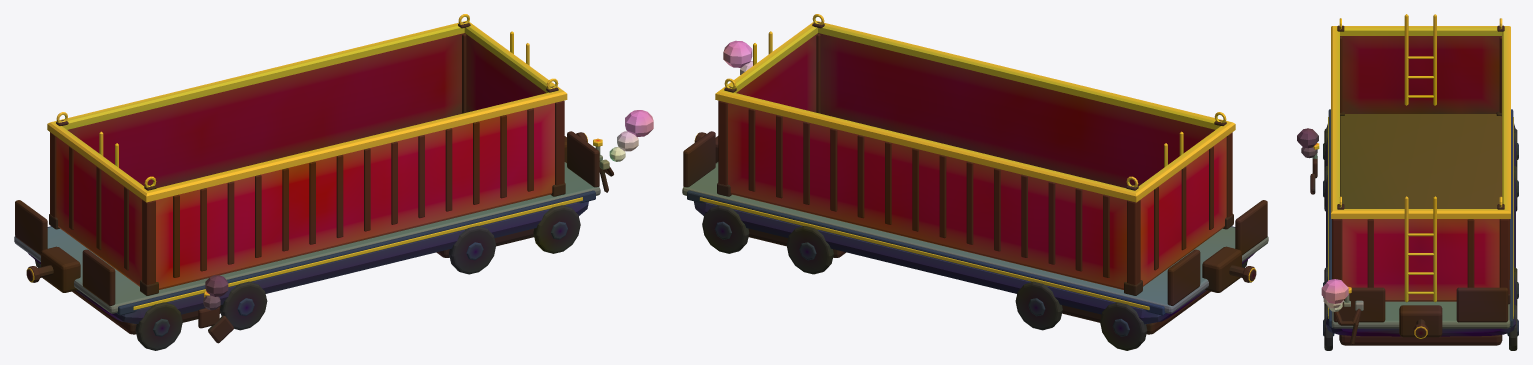
Rendered from ContainerWagon_Blockout.glb.
The picture shows the model from 3 angles, left to right: view 1: azimuth 30°, elevation 25°; view 2: azimuth 150°, elevation 25°; view 3: azimuth 270°, elevation 25°; orthographic projection. The views are drawn at different scales.
Parts seen in each view (by area): view 1: Container, Deck, Underframe, Broken_Bits__BrakeHose, Broken_Bits__AxleBox; view 2: Container, Deck, Underframe, Broken_Bits__BrakeHose; view 3: Container, Deck, Underframe, Broken_Bits__BrakeHose, Broken_Bits__AxleBox, Coupler_Front, Fixed_Rail__BrakeHose.
Part boxes in pixels (x1,y1,x2,y2): Container: [47, 14, 567, 295]; Deck: [14, 131, 600, 315]; Underframe: [28, 201, 588, 350]; Broken_Bits__BrakeHose: [599, 110, 653, 192]; Broken_Bits__AxleBox: [203, 275, 233, 343]; Container: [715, 14, 1235, 295]; Deck: [682, 131, 1268, 315]; Underframe: [694, 201, 1254, 350]; Broken_Bits__BrakeHose: [723, 40, 752, 74]; Container: [1331, 14, 1510, 304]; Deck: [1328, 109, 1513, 337]; Underframe: [1323, 124, 1518, 350]; Broken_Bits__BrakeHose: [1321, 279, 1361, 345]; Broken_Bits__AxleBox: [1297, 128, 1318, 194]; Coupler_Front: [1413, 319, 1428, 338]; Fixed_Rail__BrakeHose: [1334, 308, 1360, 325].
Size of the model in its own units: 8.45 by 2.45 by 3.1.
